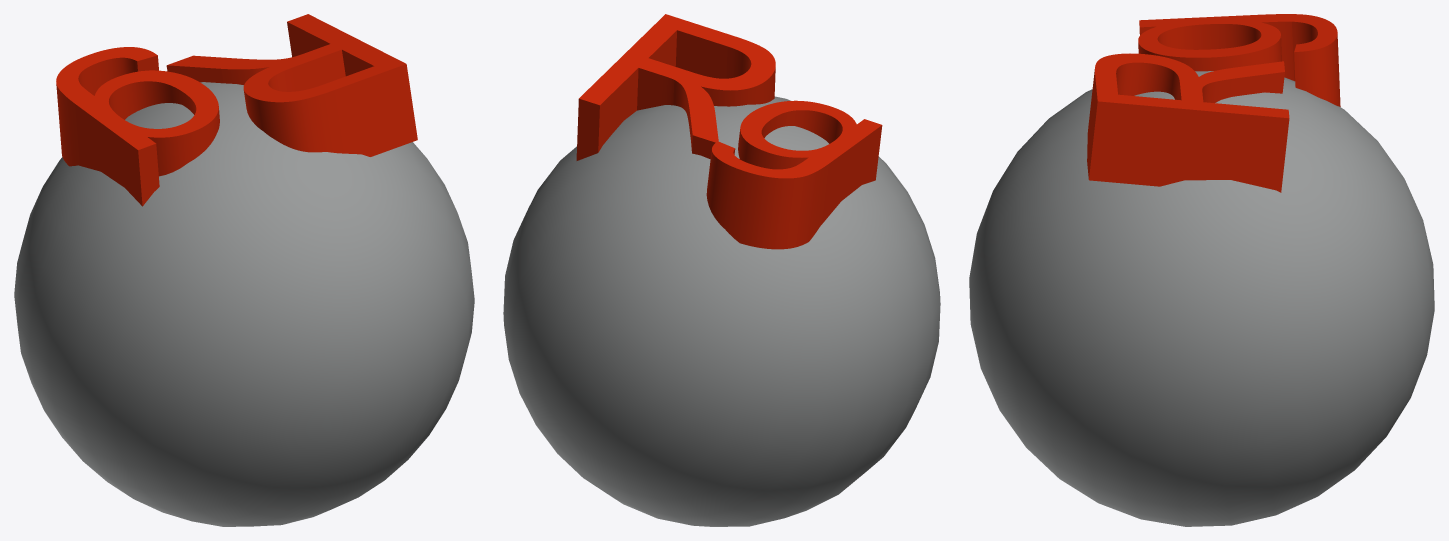
3 views of the same model, side by side, from view 1: azimuth 30°, elevation 25°; view 2: azimuth 150°, elevation 25°; view 3: azimuth 270°, elevation 25° (orthographic). The views are drawn at different scales.
Parts seen in each view (by area): view 1: Hg, Object008; view 2: Hg, Object008; view 3: Hg, Object008.
Boxes of the visible parts, <box> form: Hg: <box>14,47,474,526</box>; Object008: <box>166,14,417,156</box>; Hg: <box>503,96,940,526</box>; Object008: <box>576,14,775,160</box>; Hg: <box>969,14,1434,526</box>; Object008: <box>1087,53,1289,192</box>.
Bounding box in the file's own units: 38.61 × 41.95 × 38.66.
